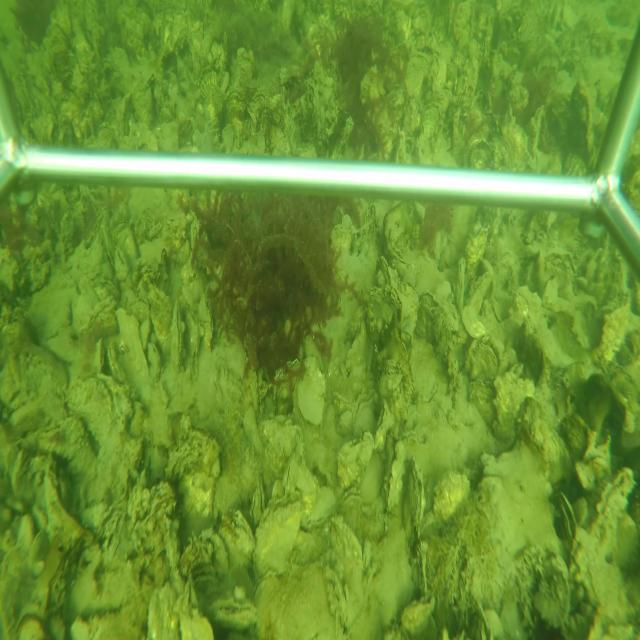Oyster-Closed: (165, 429, 221, 531), (253, 493, 302, 579), (118, 309, 151, 386), (218, 508, 255, 568), (210, 592, 260, 626), (302, 483, 338, 530), (384, 439, 405, 514), (465, 338, 502, 379), (407, 456, 425, 534), (169, 298, 185, 369), (374, 398, 392, 452), (200, 292, 215, 352), (249, 475, 264, 525), (187, 214, 198, 272)
Oyster-Indeterminate: (328, 515, 367, 628), (296, 353, 329, 428)
Oyster-Open: (558, 489, 576, 540)
